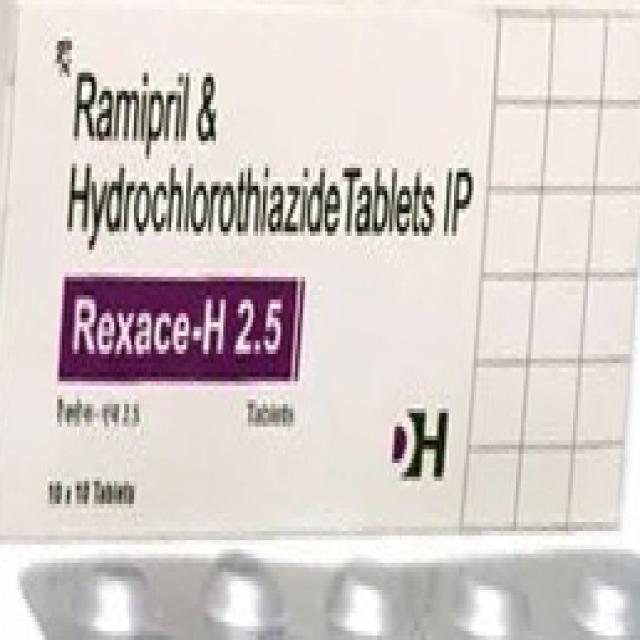drug-name: (71, 284, 288, 359)
